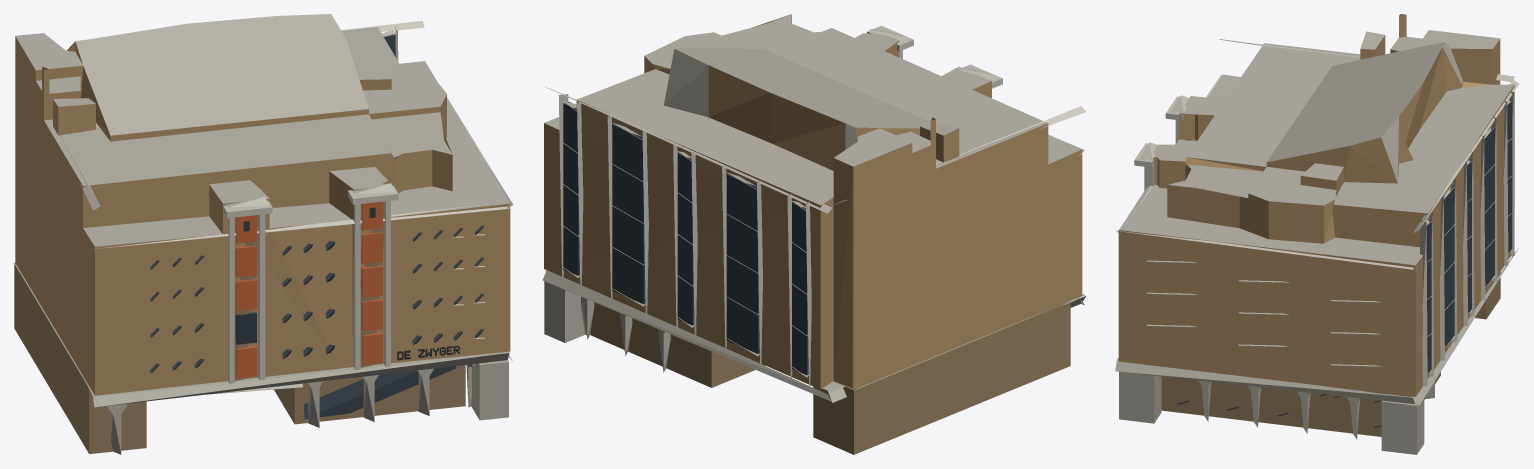
The model's file is pakhuis-de-zwijger.lod1.glb.
The picture shows the model from 3 angles, left to right: view 1: azimuth 30°, elevation 25°; view 2: azimuth 150°, elevation 25°; view 3: azimuth 270°, elevation 25°; orthographic projection. The views are drawn at different scales.
Visible parts, largest first — view 1: pakhuis-de-zwijger; view 2: pakhuis-de-zwijger; view 3: pakhuis-de-zwijger.
Part boxes in pixels (x1,y1,x2,y2): pakhuis-de-zwijger: (14, 14, 513, 454); pakhuis-de-zwijger: (542, 14, 1085, 454); pakhuis-de-zwijger: (1115, 14, 1519, 454).
Size of the model in its own units: 42.36 by 28 by 37.68.
